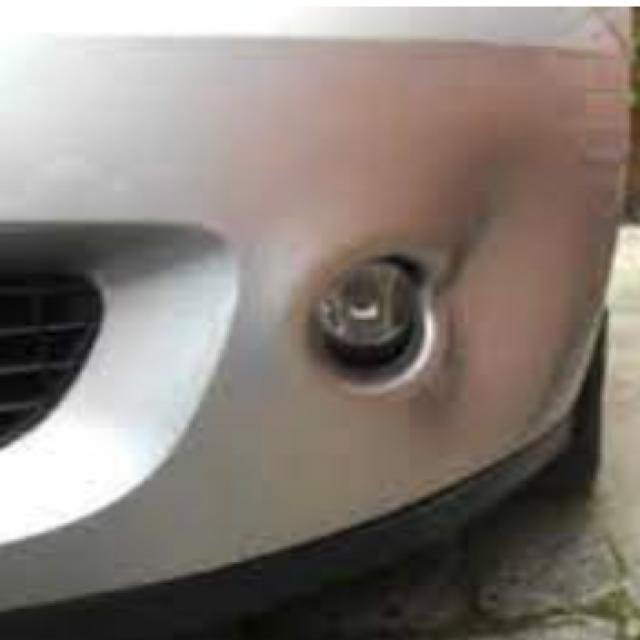dents: (455, 154, 605, 448)
